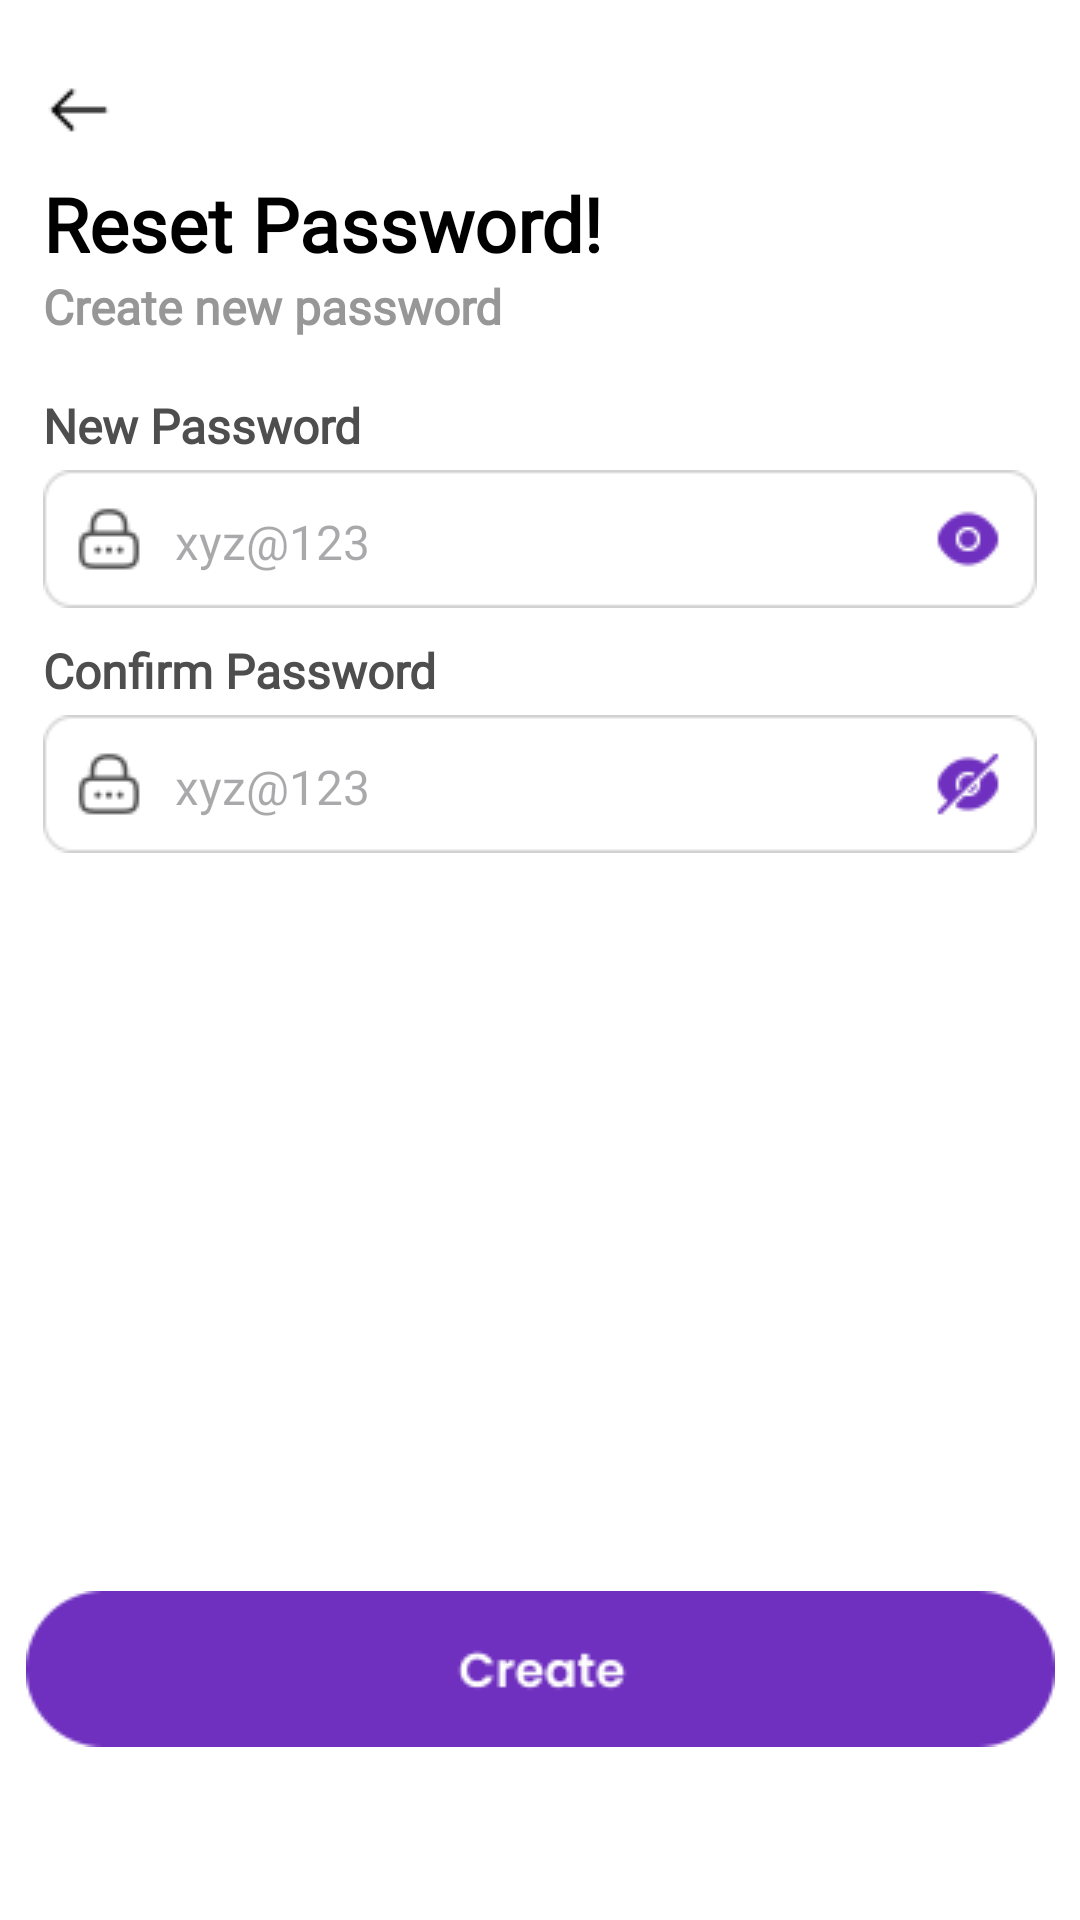

Icon bounding boxes for this 1080×1920 phone screenshot, format (x1, y1, x2, y2):
back arrow: (50, 88, 108, 132)
eye: (937, 511, 999, 567)
eye slash: (937, 753, 999, 815)
lock: (78, 508, 140, 570), (78, 753, 140, 815)
